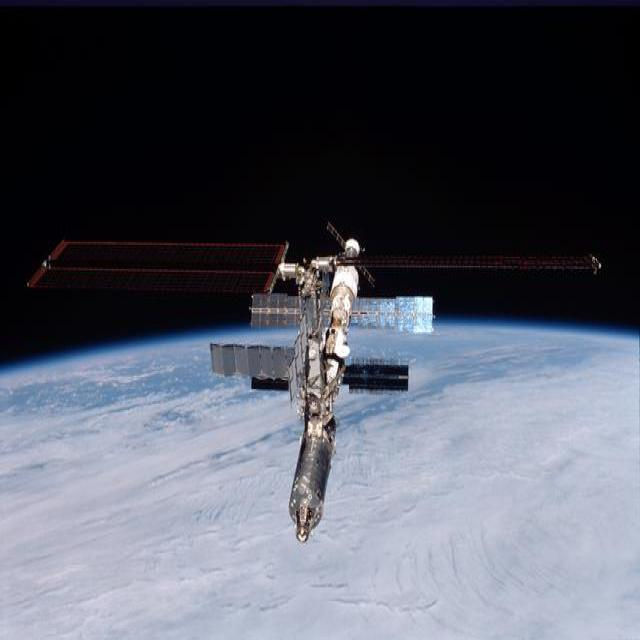satellite: (28, 238, 432, 542)
